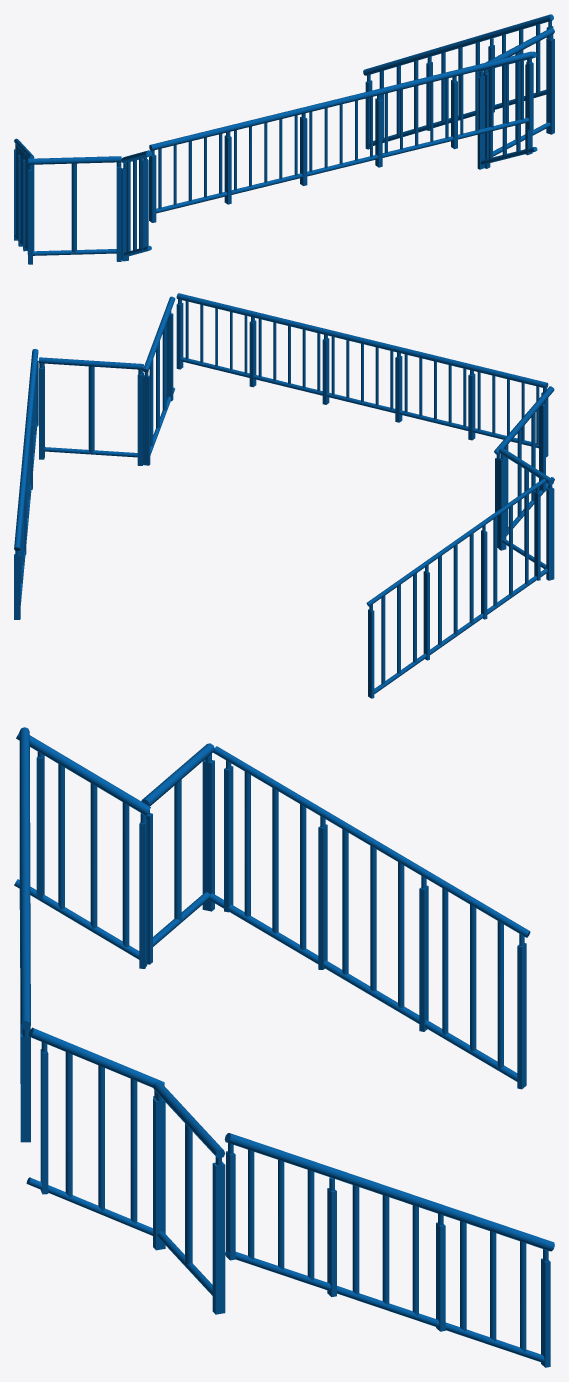
File: Guard_04_Ufa.FBX
3 renders of one model, top to bottom at view 1: azimuth 30°, elevation 25°; view 2: azimuth 150°, elevation 25°; view 3: azimuth 270°, elevation 25°, orthographic. The views are drawn at different scales.
Parts seen in each view (by area): view 1: Guard_04_Ufa; view 2: Guard_04_Ufa; view 3: Guard_04_Ufa.
Part boxes in pixels (left/top/right/bottom): Guard_04_Ufa: left=14, top=14, right=554, bottom=264; Guard_04_Ufa: left=14, top=293, right=554, bottom=698; Guard_04_Ufa: left=14, top=727, right=554, bottom=1367.
Size of the model in its own units: 7.53 by 2.94 by 4.2.
1 material, 1 textured.
